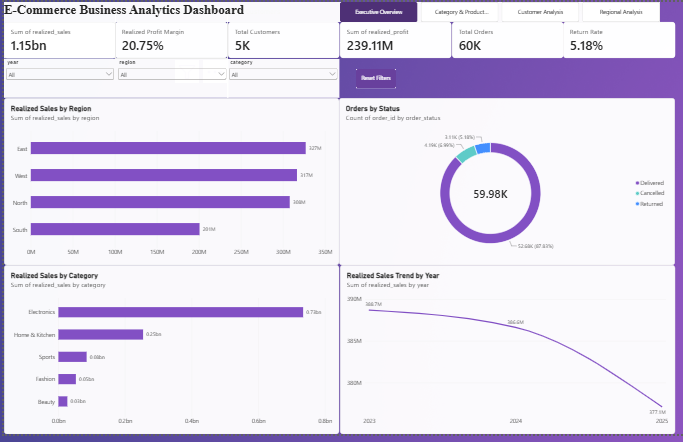

The page's visual inventory and layout, read from the dashboard file:
{"tool":"powerbi","page":{"name":"Executive Overview","canvas":[1920,1080],"ordinal":0},"visuals":[{"type":"cardVisual","fields":{"Data":["Sum(sales_master.realized_sales)"]},"box":[0,50.7,279.7,91.3],"z":0},{"type":"cardVisual","title":"Realized Profit","fields":{"Data":["Sum(sales_master.realized_profit)"]},"box":[839.1,13,279.7,129],"z":1000},{"type":"cardVisual","title":"Realized Profit Margin","fields":{"Data":["sales_master.Realized Profit Margin"]},"box":[278.3,13,281.2,129],"z":2000},{"type":"cardVisual","title":"Total Orders","fields":{"Data":["sales_master.Total Orders"]},"box":[1118.8,13,279.7,129],"z":3000},{"type":"cardVisual","title":"Total Customers","fields":{"Data":["sales_master.Total Customers"]},"box":[559.4,13,279.7,129],"z":4000},{"type":"lineChart","title":"Realized Sales Trend by Year","fields":{"Category":["sales_master.year"],"Y":["Sum(sales_master.realized_sales)"]},"box":[840,657.5,837.5,422.5],"z":5000},{"type":"barChart","title":"Realized Sales by Category","fields":{"Category":["sales_master.category"],"Y":["Sum(sales_master.realized_sales)"]},"box":[0,657.5,837.5,422.5],"z":6000},{"type":"barChart","title":"Realized Sales by Region","fields":{"Category":["sales_master.region"],"Y":["Sum(sales_master.realized_sales)"]},"box":[0,240,837.5,417.5],"z":7000},{"type":"donutChart","title":"Orders by Status","fields":{"Category":["sales_master.order_status"],"Y":["CountNonNull(sales_master.order_id)"]},"box":[837.5,240,840,417.5],"z":8000},{"type":"textbox","box":[0,0,840,50],"z":9000},{"type":"cardVisual","title":"Return Rate","fields":{"Data":["sales_master.Return Rate"]},"box":[1398.6,13,281.2,129],"z":10000},{"type":"slicer","fields":{"Values":["sales_master.year"]},"box":[0,142,279.7,97.1],"z":11000},{"type":"slicer","fields":{"Values":["sales_master.region"]},"box":[279.7,142,281.2,97.1],"z":12000},{"type":"slicer","fields":{"Values":["sales_master.category"]},"box":[558,142,281.2,97.1],"z":12001},{"type":"pageNavigator","box":[840,0,800,50],"z":12002},{"type":"actionButton","box":[881.2,166.7,100,47.7],"z":12003}]}

Visuals, with their boxes on the page's 1920x1080 design canvas (x1, y1, x2, y2). These are canvas units, not pixel positions in the 683x442 screenshot, which may show the page scaled, cropped or inside an application window:
cardVisual - Sum(sales_master.realized_sales): Rect(0, 51, 280, 142)
"Realized Profit" cardVisual: Rect(839, 13, 1119, 142)
"Realized Profit Margin" cardVisual: Rect(278, 13, 560, 142)
"Total Orders" cardVisual: Rect(1119, 13, 1398, 142)
"Total Customers" cardVisual: Rect(559, 13, 839, 142)
"Realized Sales Trend by Year" lineChart: Rect(840, 658, 1678, 1080)
"Realized Sales by Category" barChart: Rect(0, 658, 838, 1080)
"Realized Sales by Region" barChart: Rect(0, 240, 838, 658)
"Orders by Status" donutChart: Rect(838, 240, 1678, 658)
textbox: Rect(0, 0, 840, 50)
"Return Rate" cardVisual: Rect(1399, 13, 1680, 142)
slicer - sales_master.year: Rect(0, 142, 280, 239)
slicer - sales_master.region: Rect(280, 142, 561, 239)
slicer - sales_master.category: Rect(558, 142, 839, 239)
pageNavigator: Rect(840, 0, 1640, 50)
actionButton: Rect(881, 167, 981, 214)
